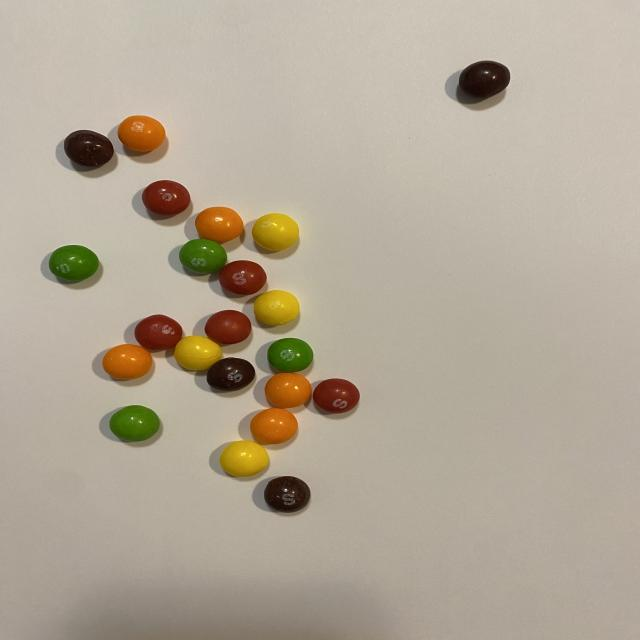smartie: (459, 60, 510, 98), (63, 129, 113, 166), (101, 344, 152, 380), (251, 213, 299, 251), (133, 314, 182, 351), (194, 206, 243, 243), (219, 441, 269, 477), (47, 245, 97, 281), (109, 406, 159, 442), (250, 408, 297, 445), (141, 180, 190, 215), (117, 115, 164, 151), (173, 336, 221, 371), (218, 260, 266, 295), (312, 379, 360, 414), (206, 358, 255, 392), (264, 477, 310, 513), (264, 373, 311, 408), (178, 239, 226, 273), (253, 290, 299, 325), (204, 310, 251, 344), (267, 338, 313, 372)
